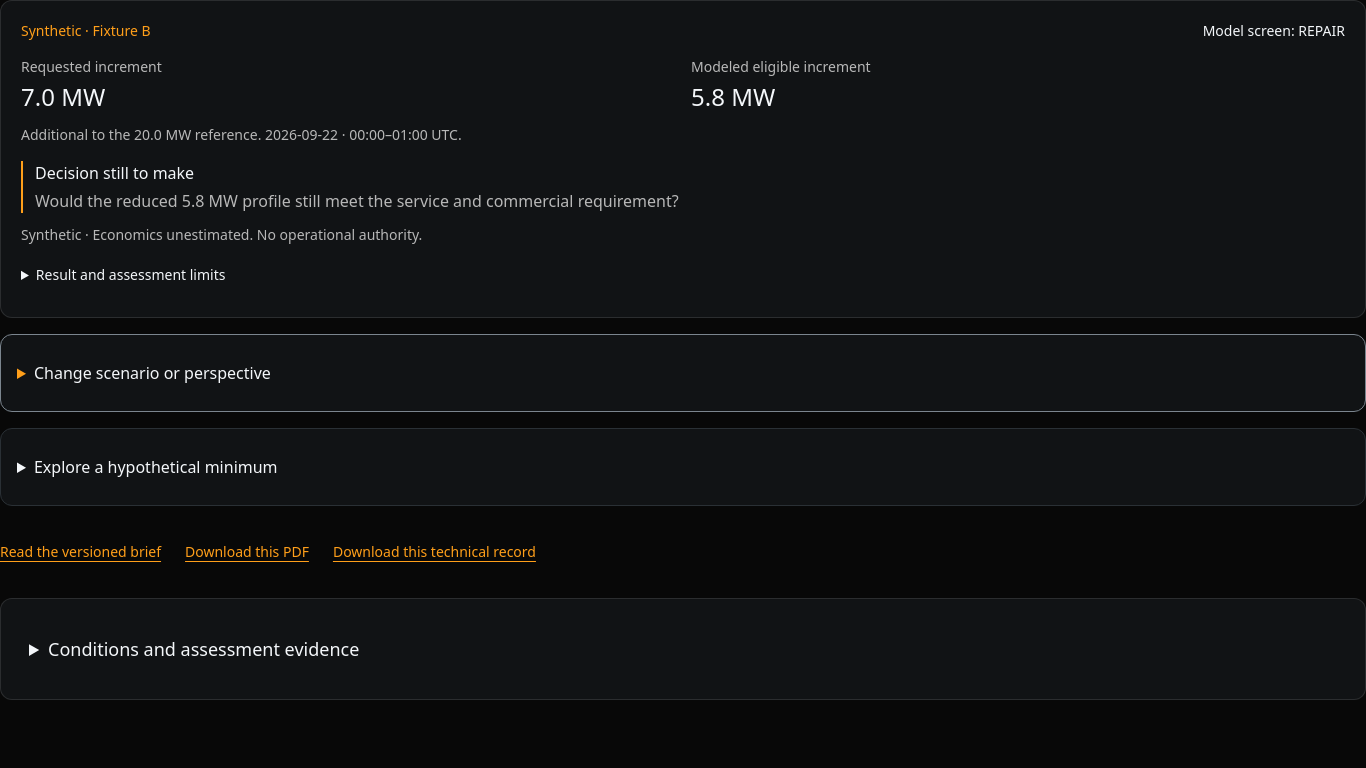
publication-bound hypothetical minimum › applies explicit input and presets, clears stale results on edit, and sends no assumptions anywhere
Step 1. Click the heading "Explore a hypothetical minimum" → [156, 467], box [34,456,278,478]
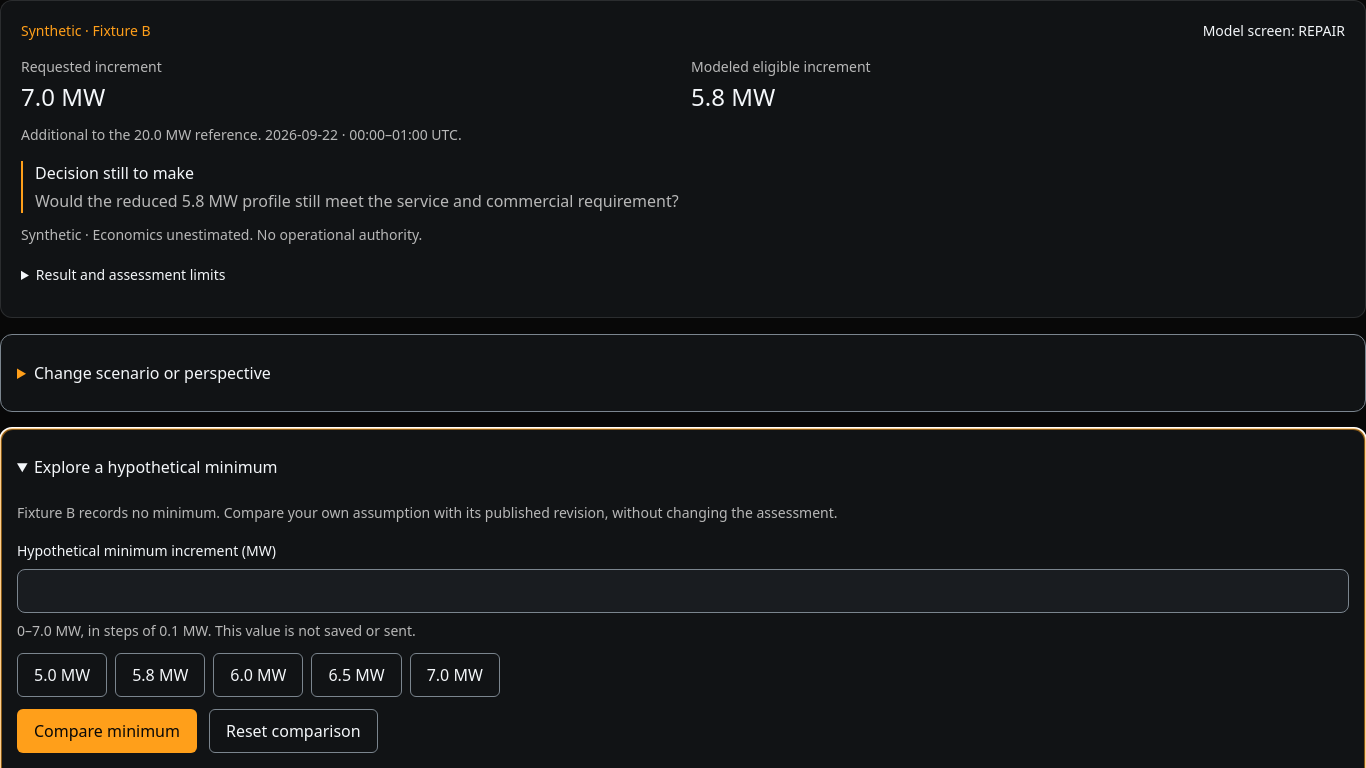
Result: the number field labelled "Hypothetical minimum increment (MW)" is not empty
Step 2. Type "6.5" into the number field labelled "Hypothetical minimum increment (MW)" → [683, 591], box [17,569,1349,613]
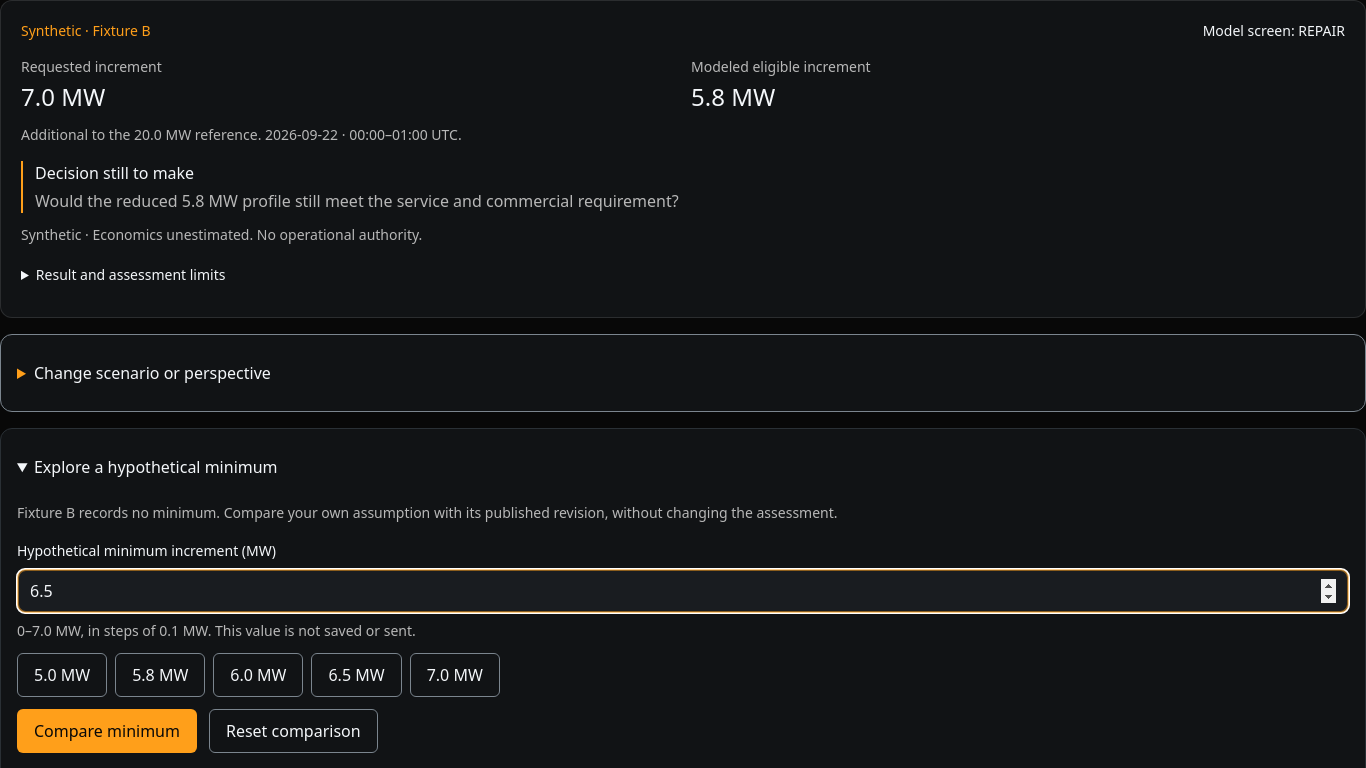
Step 3. Click the button "Compare minimum" → [107, 731], box [17,709,197,753]
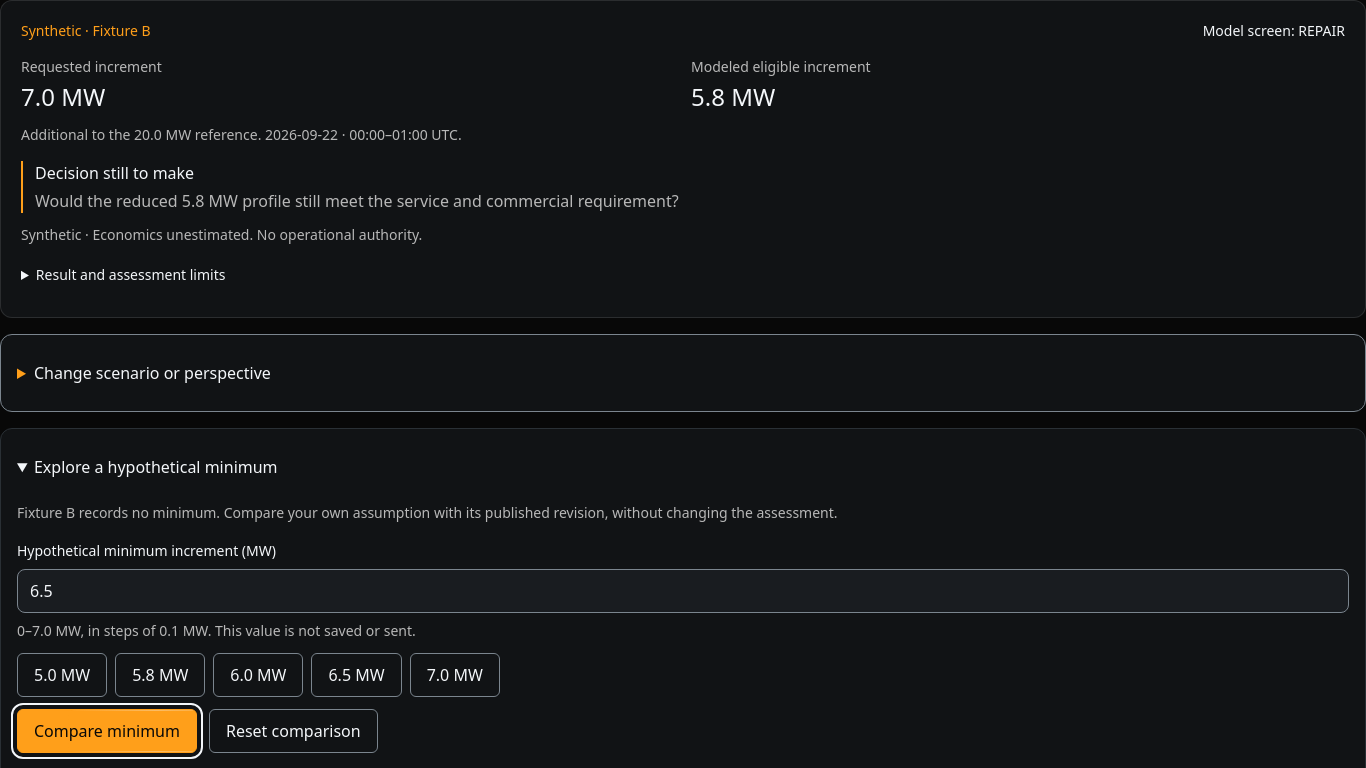
Step 4. Clear the number field labelled "Hypothetical minimum increment (MW)" → [683, 591], box [17,569,1349,613]
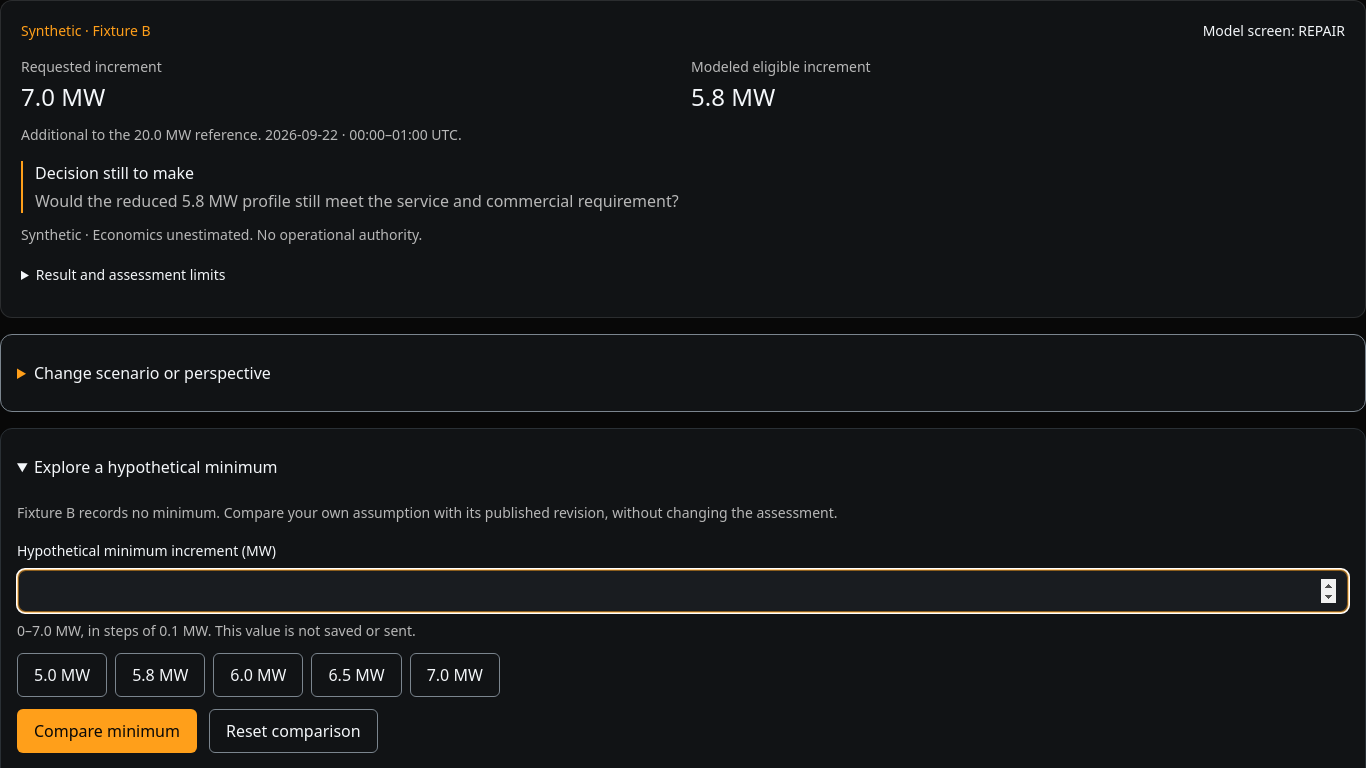
Step 5. Click the button "5.8 MW" → [160, 675], box [115,653,205,697]
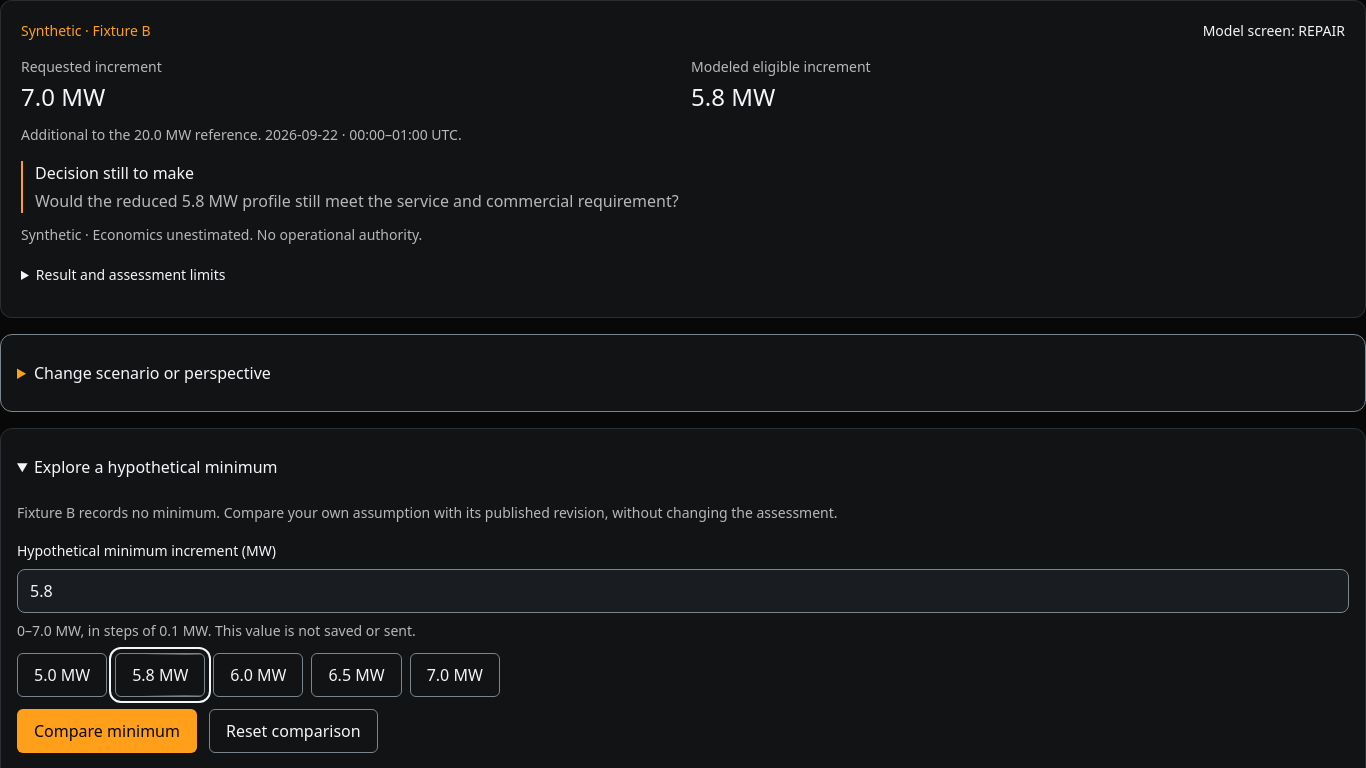
Expected: the element with test id "assessment-summary" shows "Model screen: REPAIR", [0,0,1365,318]
Step 6. Click the button "Reset comparison" → [293, 731], box [209,709,378,753]
(page scrolled)
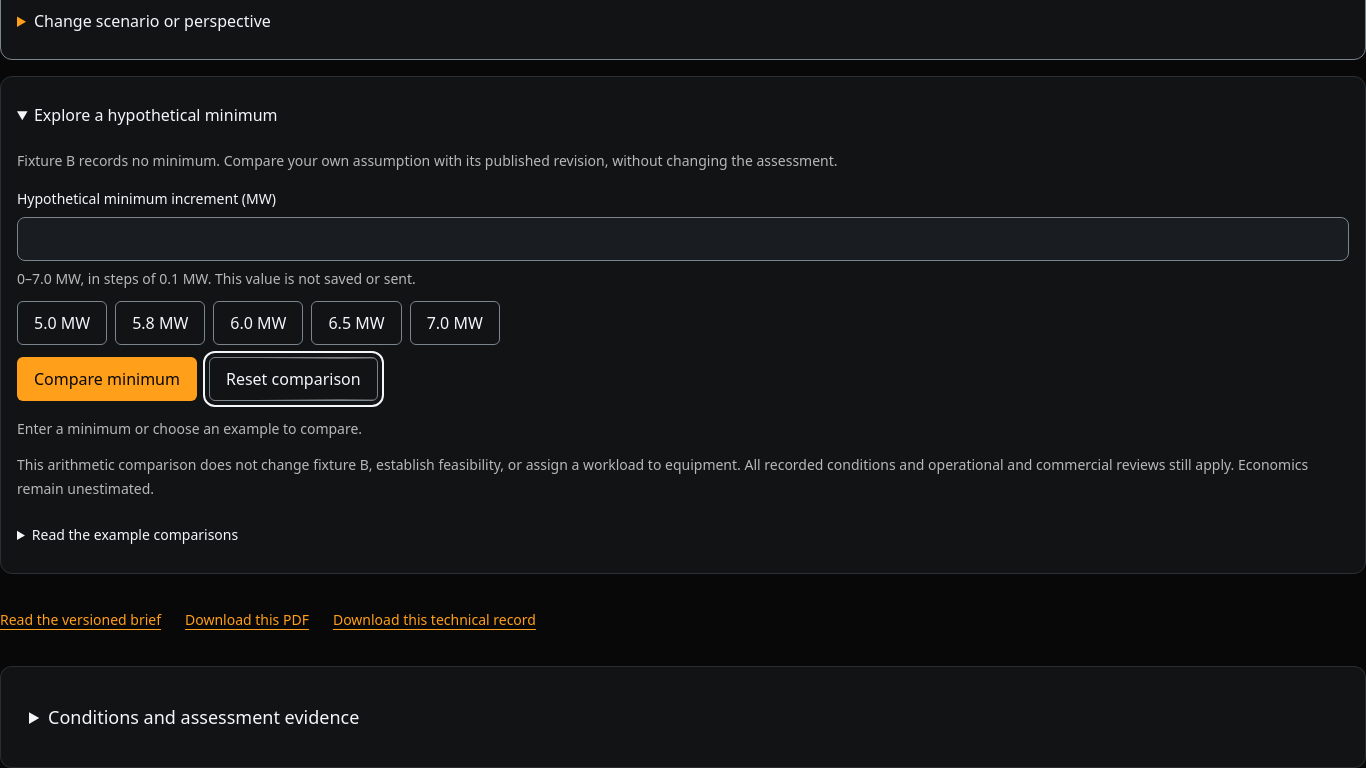
Result: the message with test id "hypothetical-result" no longer shows "no additional numerical margin" at [17,419,362,438]
